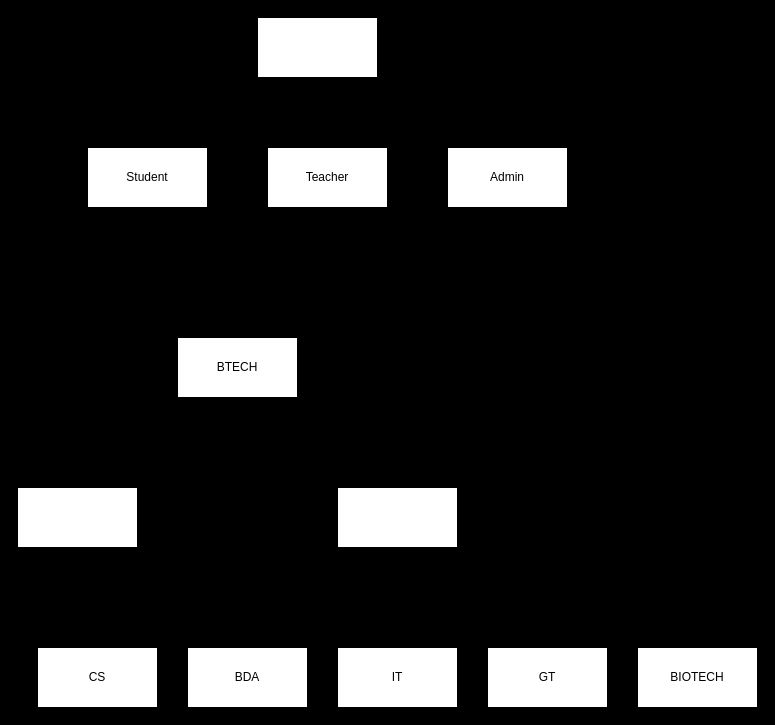
This 775x725 diagram has some shape labels left out. The shapes that lost their labels are listed below. From the top down, each one's box as (x1, y1, x2, y2) in pixels, then its label:
(256, 16, 378, 78): SRMIST
(16, 486, 138, 548): CSE
(336, 486, 458, 548): CSE SPECIALIZATION
